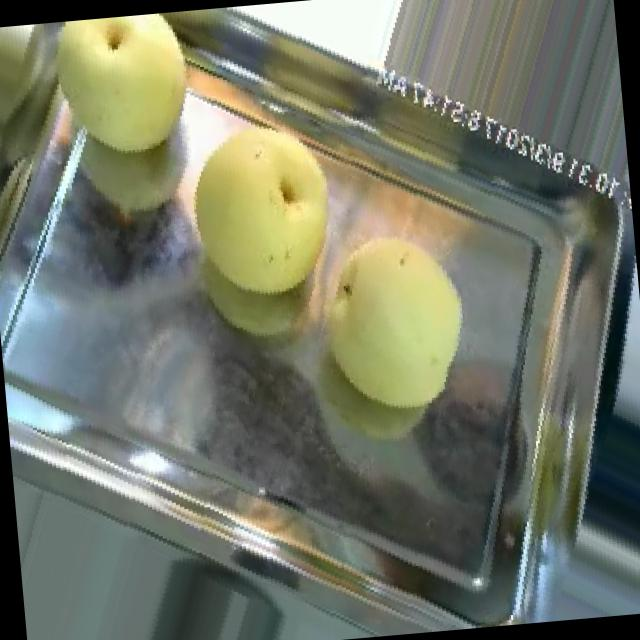Fruit: (138, 85, 374, 329), (269, 199, 496, 442), (13, 9, 222, 184)
